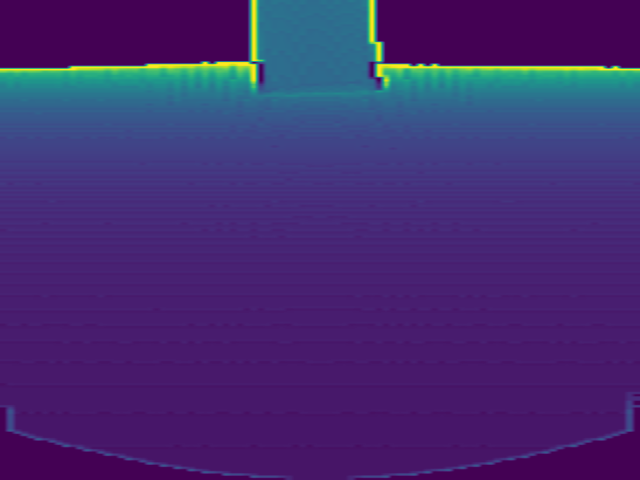cylinder: (247, 1, 384, 97)
